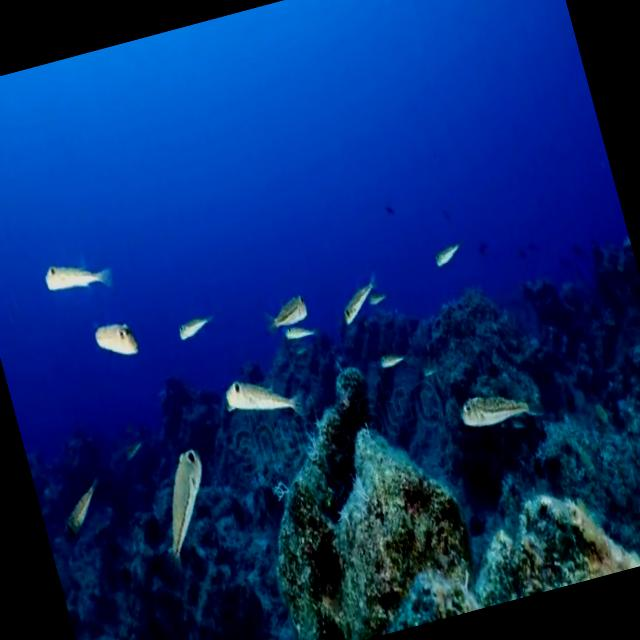Balon Baligi: (138, 431, 226, 562), (214, 359, 306, 442), (450, 367, 546, 442), (35, 240, 120, 306), (82, 307, 146, 371), (326, 268, 388, 332), (167, 298, 222, 351), (256, 286, 312, 336), (421, 228, 466, 280), (370, 340, 409, 377)
